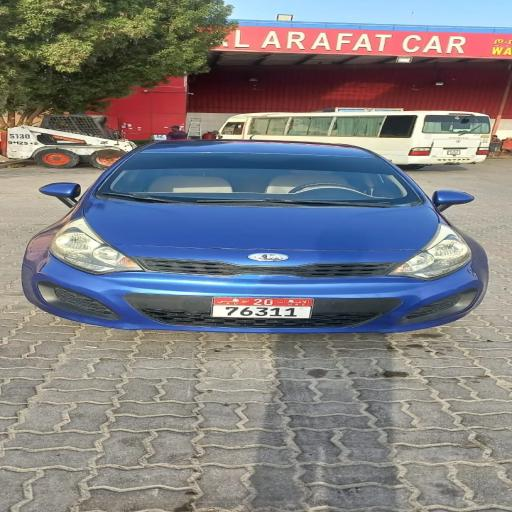license-plates: (211, 297, 314, 319), (447, 150, 460, 155)
